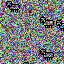sheep: (6, 1, 21, 13), (40, 49, 55, 60), (40, 17, 54, 28), (56, 20, 64, 31)
